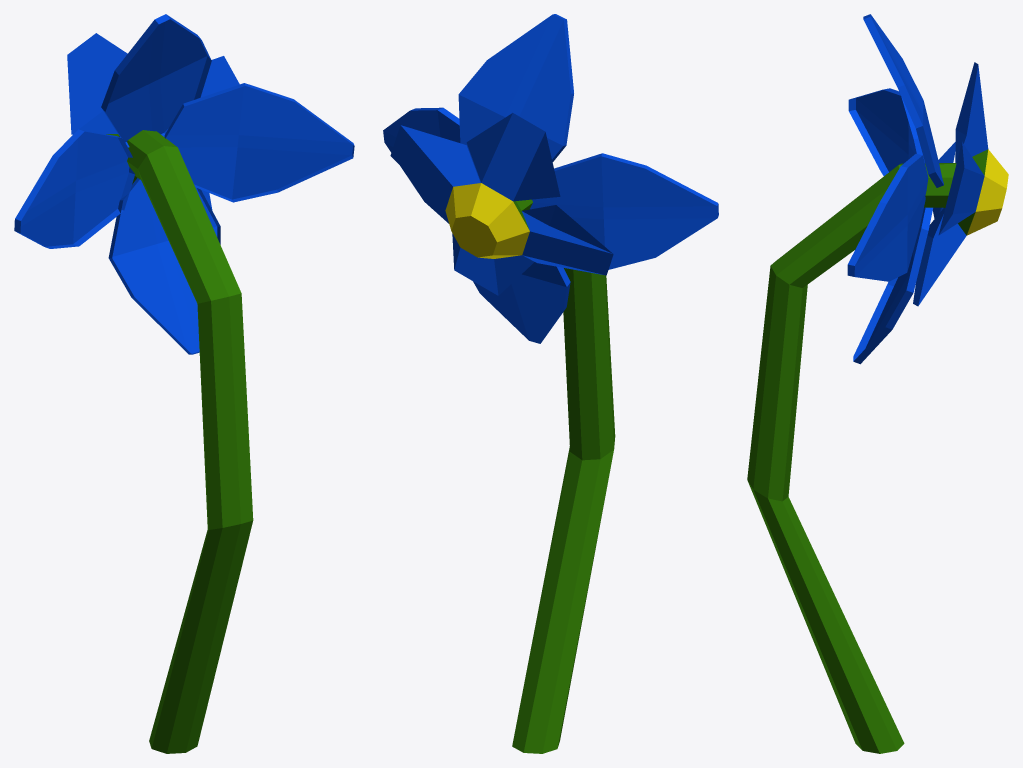
The model's file is flor_a_3.fbx.
3 views of the same model, side by side, from view 1: azimuth 30°, elevation 25°; view 2: azimuth 150°, elevation 25°; view 3: azimuth 270°, elevation 25° (orthographic). The views are drawn at different scales.
Parts seen in each view (by area): view 1: Cylinder.006; view 2: Cylinder.006; view 3: Cylinder.006.
Boxes of the visible parts, box(x1,y1,x2,y2) form: Cylinder.006: box(14, 14, 354, 753); Cylinder.006: box(383, 14, 718, 753); Cylinder.006: box(747, 14, 1008, 753).
Bounding box in the file's own units: 97.01 × 202 × 66.26.
